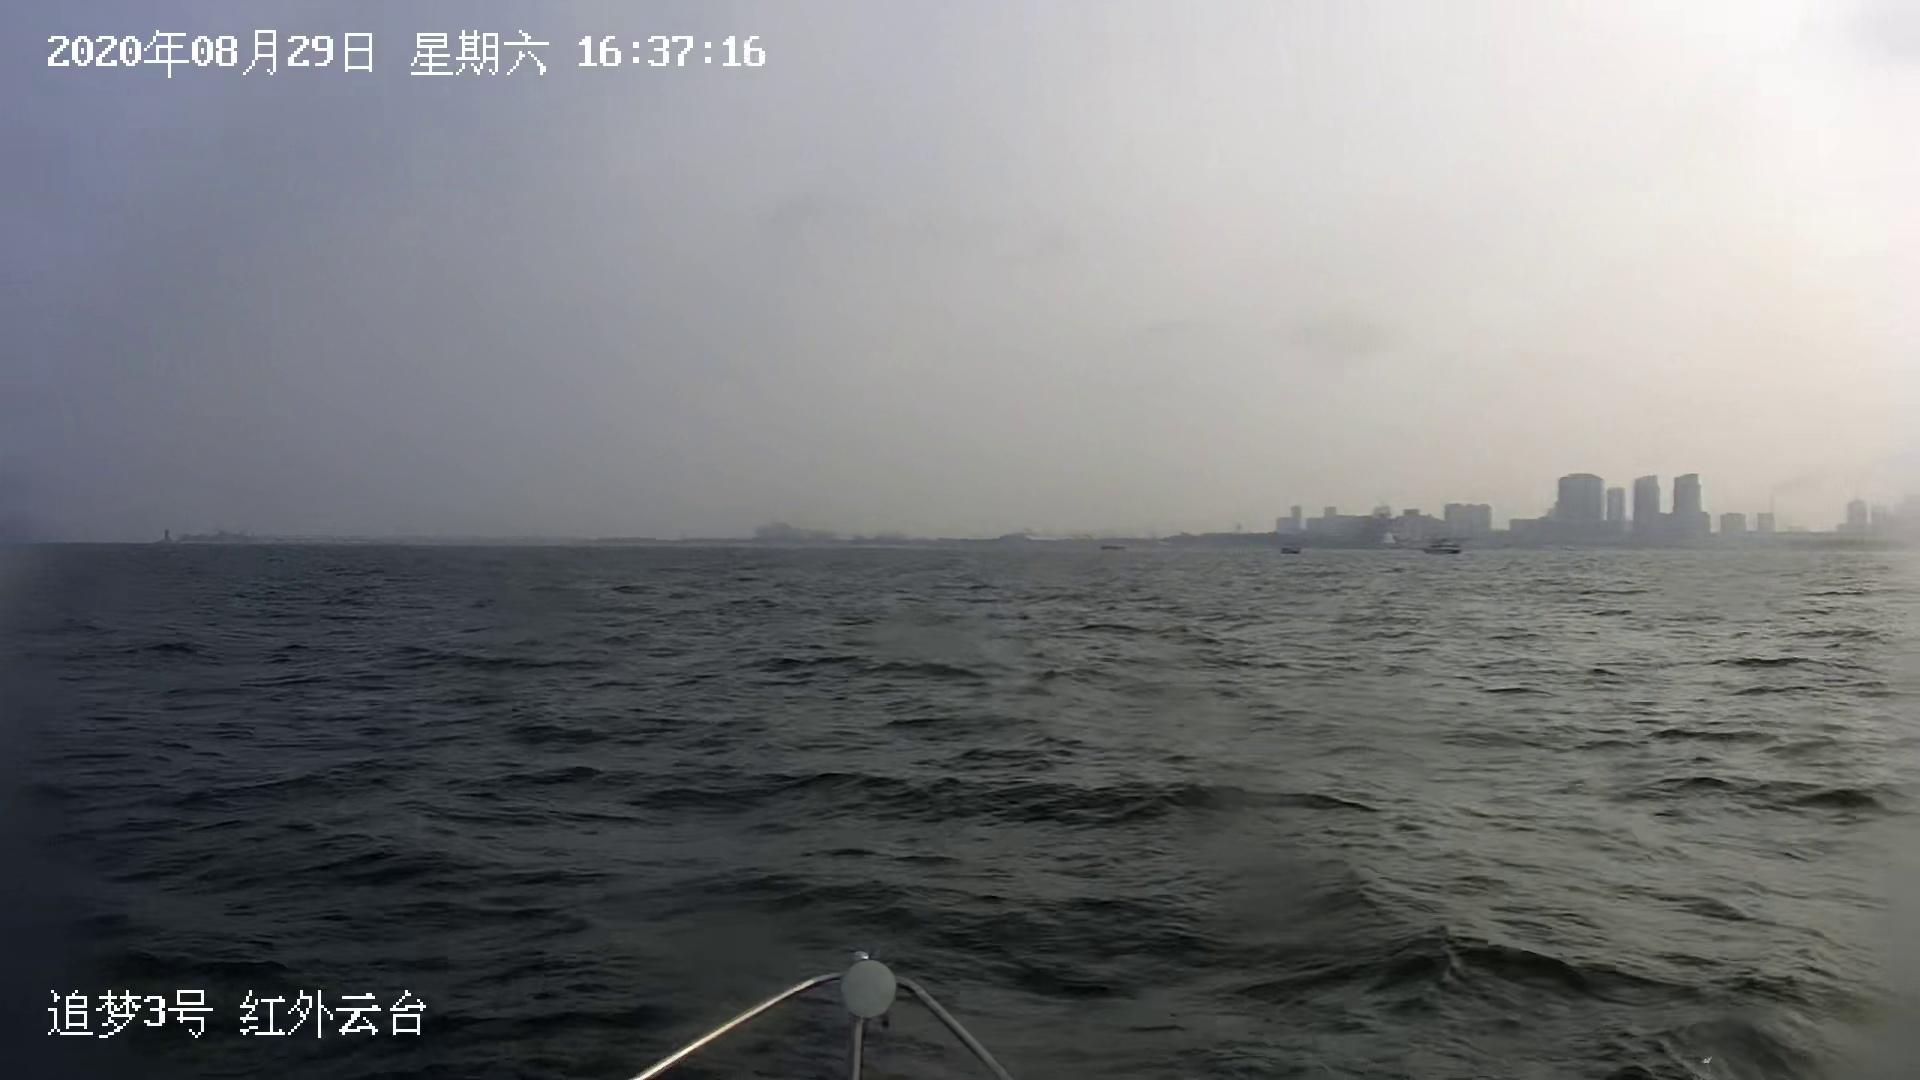coast: (142, 462, 1920, 545)
